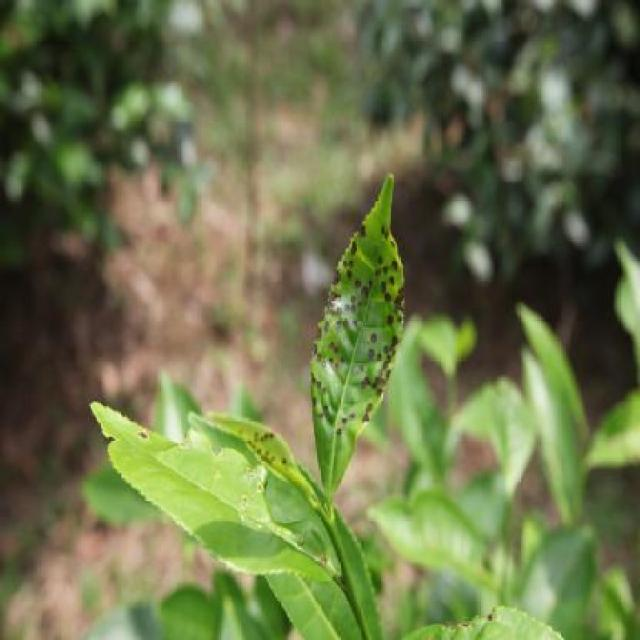Tea Mosquito bug infested leaf: (323, 175, 417, 528)
